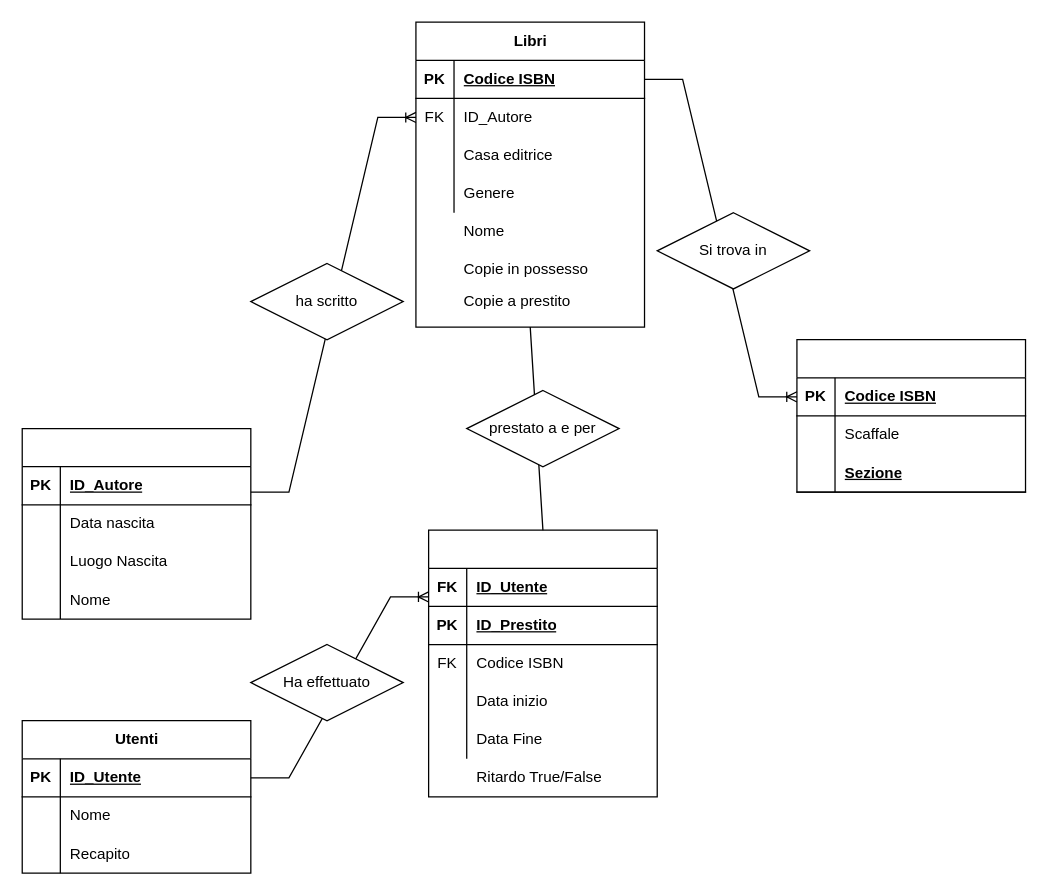
Some shapes in this 1048 by 895 pixel diagram are drawn without their labels. The box of each missing label's shape, as (x1, y1, x2, y2) in pixels:
Autori: (21, 427, 251, 619)
Collocazione: (796, 338, 1026, 492)
Prestiti: (427, 529, 657, 797)
